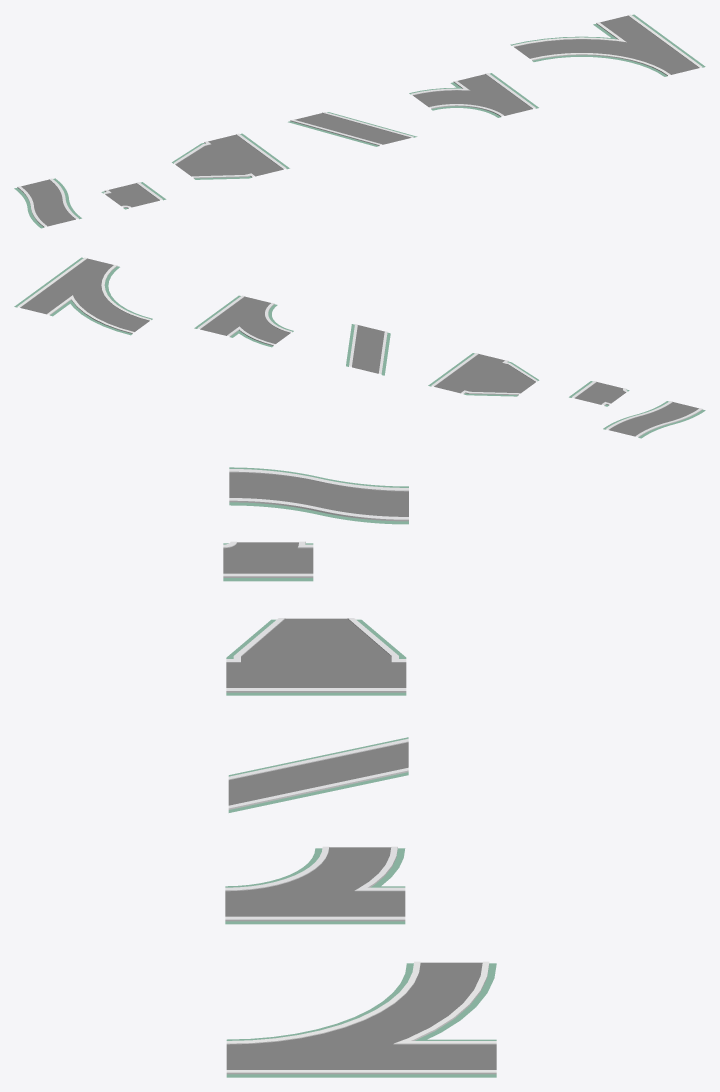
File: track_flipped.glb
The picture shows the model from 3 angles, top to bottom: view 1: azimuth 30°, elevation 25°; view 2: azimuth 150°, elevation 25°; view 3: azimuth 270°, elevation 25°; orthographic projection. The views are drawn at different scales.
Visible parts, largest first — view 1: roadSplitLarger(Clone)-col, roadSide(Clone)-col, roadSplitLarge(Clone)-col, roadStraightSkew(Clone)-col, roadCurved(Clone)-col, roadSplitSmall(Clone)-col; view 2: roadSplitLarger(Clone)-col, roadSide(Clone)-col, roadSplitLarge(Clone)-col, roadCurved(Clone)-col, roadStraightSkew(Clone)-col, roadSplitSmall(Clone)-col; view 3: roadSplitLarger(Clone)-col, roadSide(Clone)-col, roadSplitLarge(Clone)-col, roadStraightSkew(Clone)-col, roadCurved(Clone)-col, roadSplitSmall(Clone)-col.
Boxes of the visible parts, <box> form: roadSplitLarger(Clone)-col: <box>510,14,705,76</box>; roadSide(Clone)-col: <box>172,133,289,179</box>; roadSplitLarge(Clone)-col: <box>409,73,538,117</box>; roadStraightSkew(Clone)-col: <box>288,112,417,146</box>; roadCurved(Clone)-col: <box>14,178,81,228</box>; roadSplitSmall(Clone)-col: <box>101,182,166,209</box>; roadSplitLarger(Clone)-col: <box>14,257,152,335</box>; roadSide(Clone)-col: <box>428,353,539,396</box>; roadSplitLarge(Clone)-col: <box>194,295,293,347</box>; roadCurved(Clone)-col: <box>603,401,705,438</box>; roadStraightSkew(Clone)-col: <box>346,324,390,375</box>; roadSplitSmall(Clone)-col: <box>569,381,629,406</box>; roadSplitLarger(Clone)-col: <box>226,961,496,1077</box>; roadSide(Clone)-col: <box>226,618,406,695</box>; roadSplitLarge(Clone)-col: <box>225,846,405,924</box>; roadStraightSkew(Clone)-col: <box>228,737,408,812</box>; roadCurved(Clone)-col: <box>229,467,408,524</box>; roadSplitSmall(Clone)-col: <box>223,541,313,581</box>.
Bounding box in the file's own units: 16.04 × 0.02 × 3.04.
